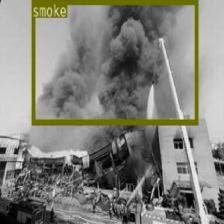smoke: (32, 0, 198, 123)
